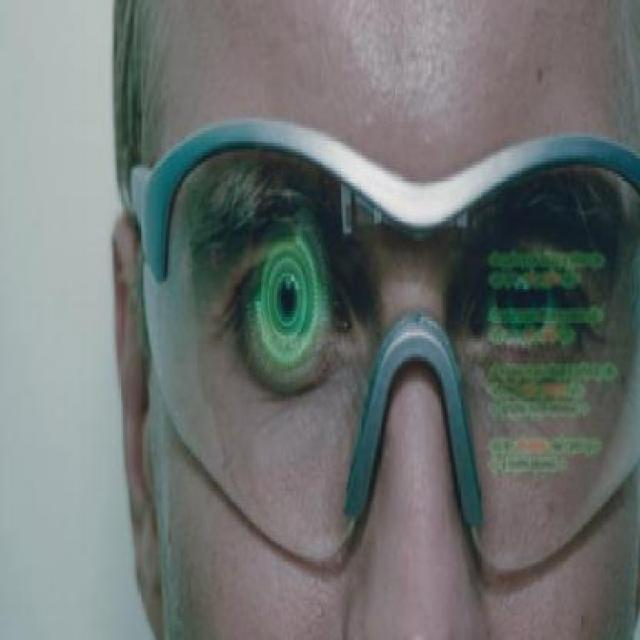Goggles: (98, 125, 640, 578)
